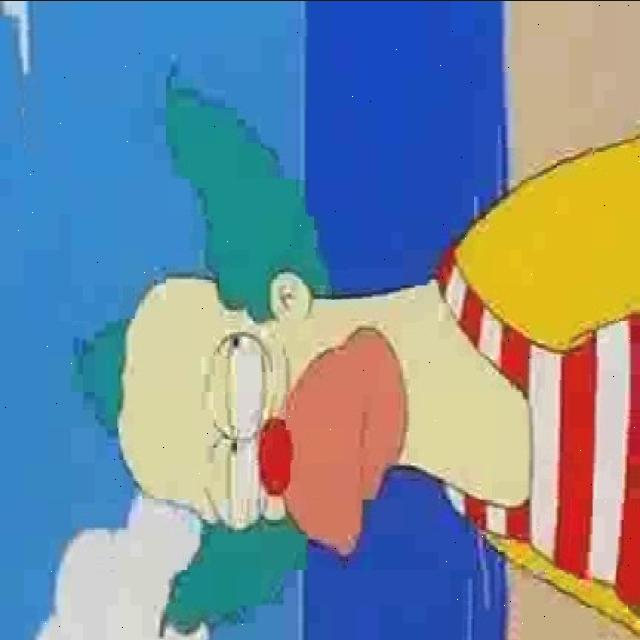Krusty the Clown: (74, 89, 454, 631)
